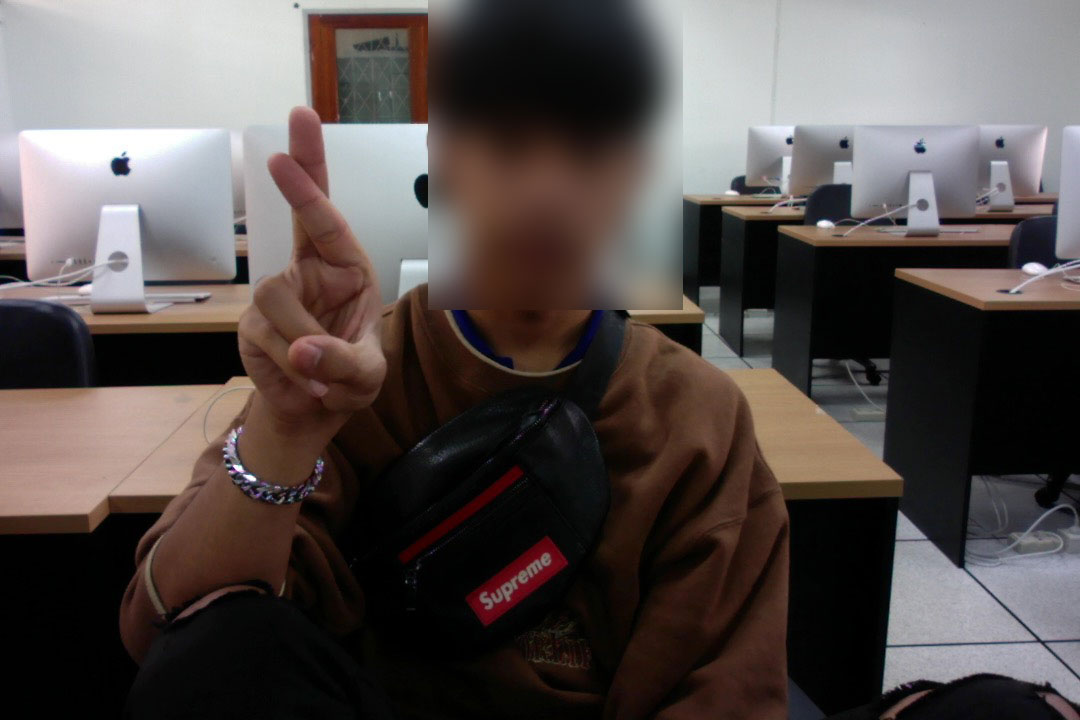rao: (213, 102, 404, 420)
